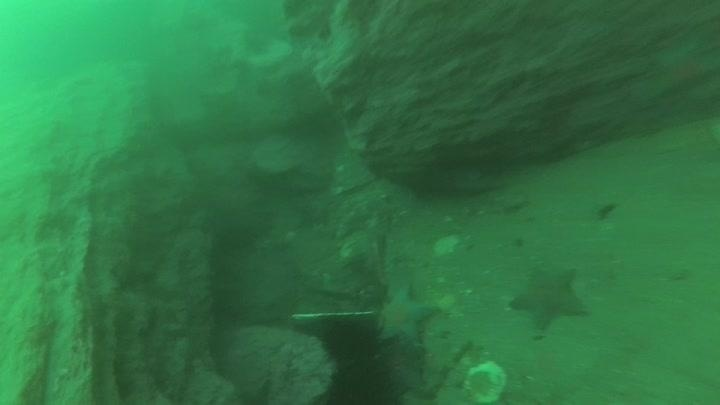echinus: (319, 349, 404, 405), (318, 316, 388, 374)
starfish: (507, 264, 591, 334), (644, 34, 719, 105), (372, 282, 439, 348)
